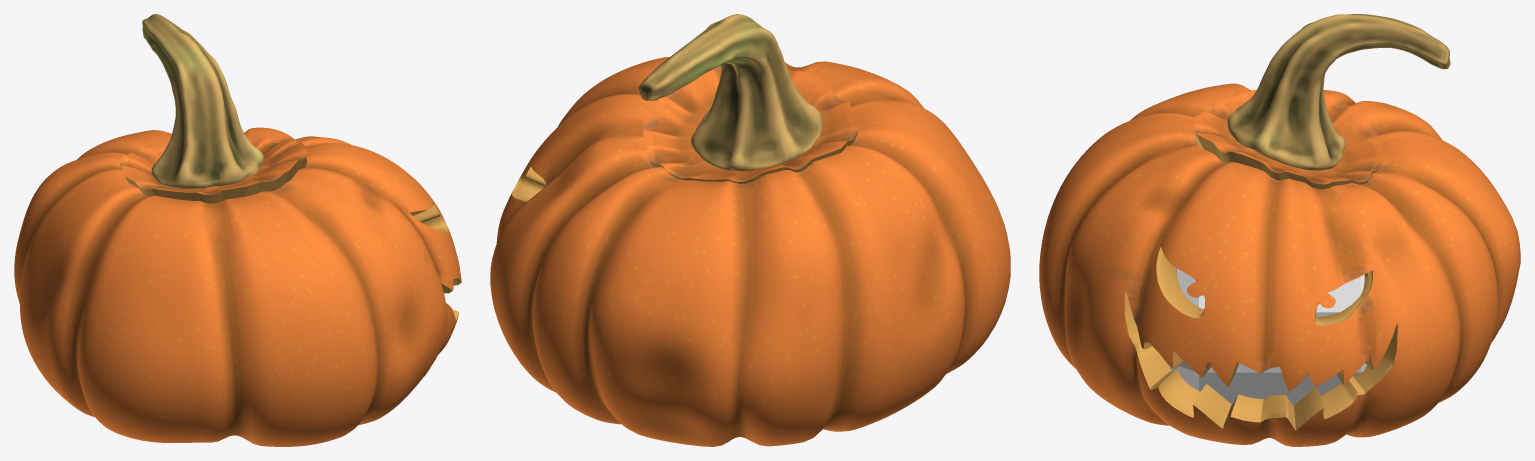
File: Pumpkin_model.fbx
3 renders of one model, left to right at view 1: azimuth 30°, elevation 25°; view 2: azimuth 150°, elevation 25°; view 3: azimuth 270°, elevation 25°, orthographic. The views are drawn at different scales.
Visible parts, largest first — view 1: Pumpkin, Stem; view 2: Pumpkin, Stem; view 3: Pumpkin, Stem, EmissionForSketchfab.
Part boxes in pixels (x1,y1,x2,y2): Pumpkin: (14, 127, 461, 446); Stem: (142, 14, 263, 188); Pumpkin: (490, 57, 1010, 446); Stem: (638, 14, 822, 170); Pumpkin: (1039, 83, 1520, 446); Stem: (1227, 14, 1450, 170); EmissionForSketchfab: (1168, 268, 1366, 405).
Size of the model in its own units: 49.65 by 43.13 by 51.87.
